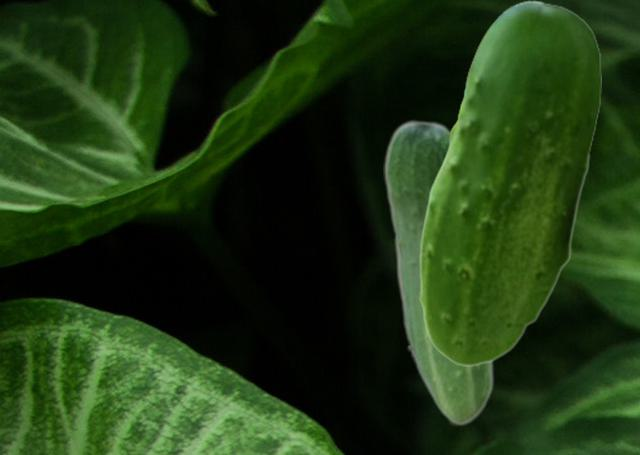cucumber: (419, 0, 600, 366), (383, 118, 495, 425)
